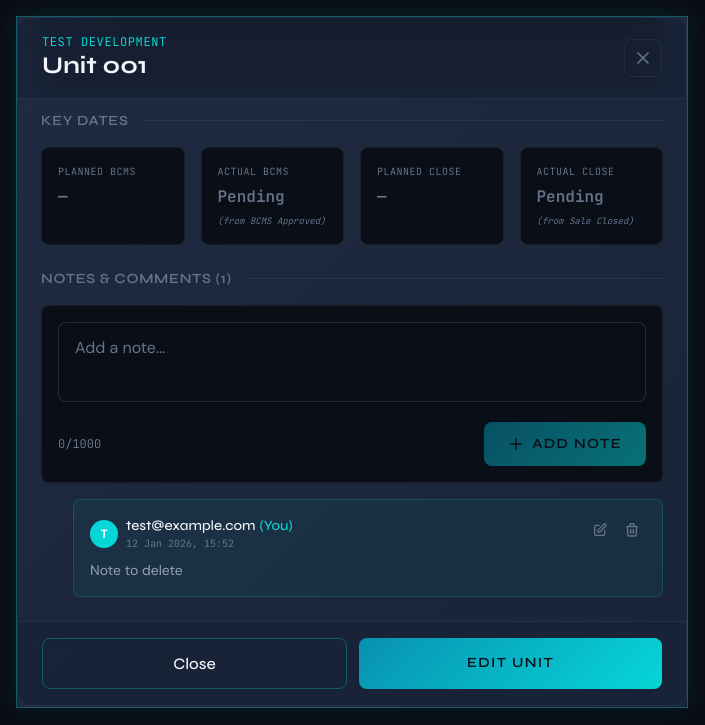
Test case: UnitDetailModal › delete note functionality › shows delete confirmation when delete button is clicked
(page scrolled)
Click the button titled "Delete": (632, 530) 618,516 -> 646,544
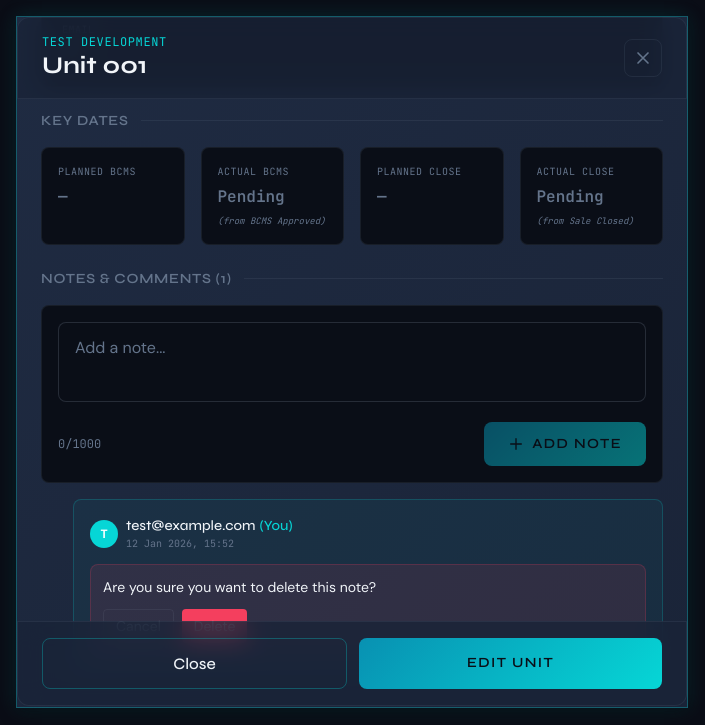
expect the text "Are you sure you want to delete this note?" is shown: met, box 103,578 -> 376,596
